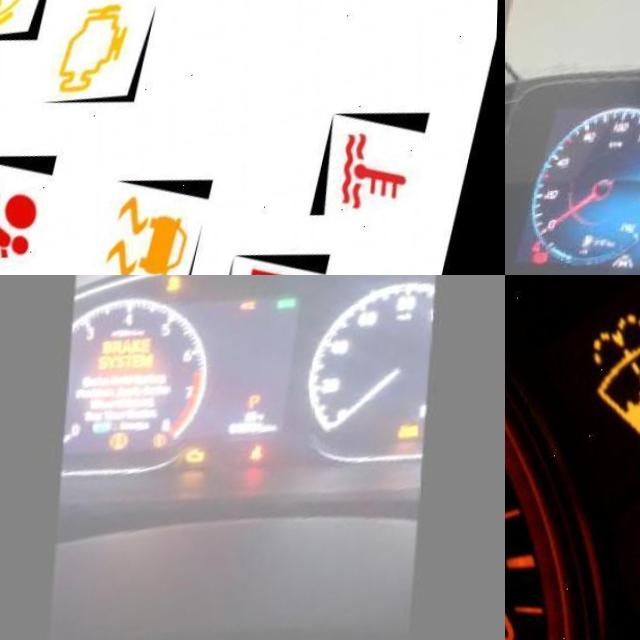Low fuel level: (587, 242, 601, 258)
Washer Fluid: (592, 317, 640, 460)
